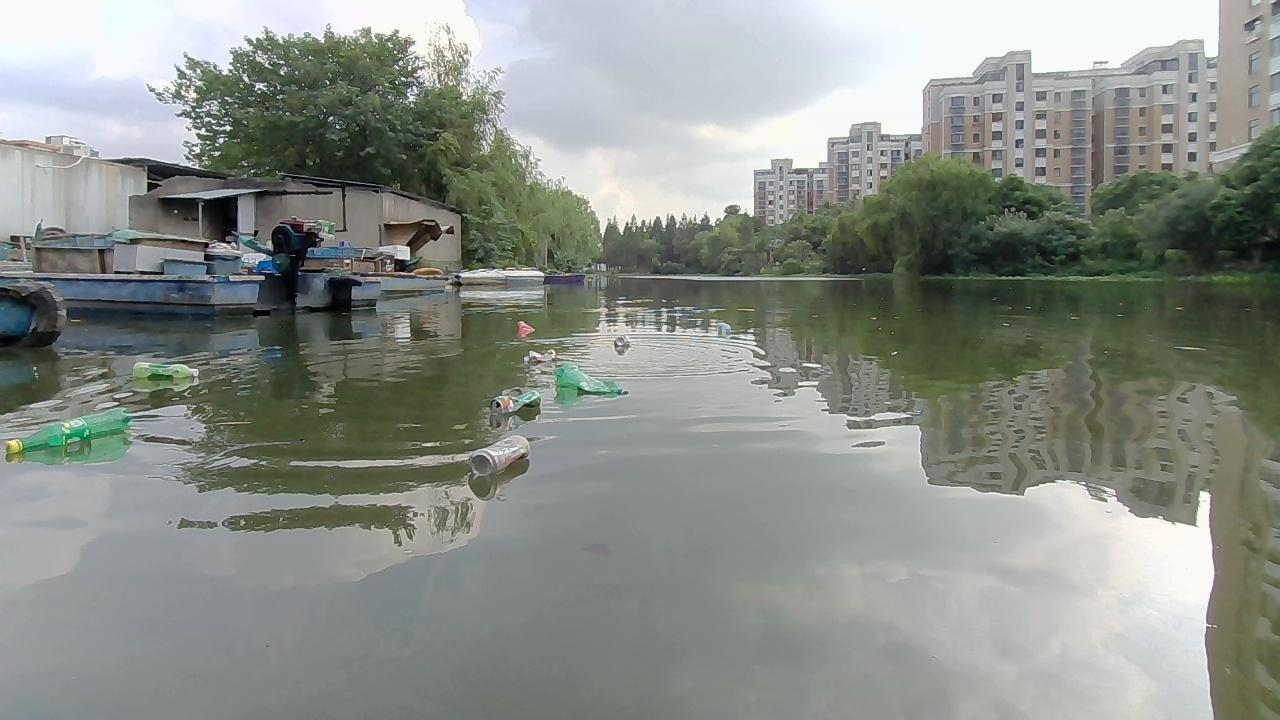bottle: (7, 403, 126, 461), (557, 366, 631, 403), (468, 437, 531, 475), (131, 358, 196, 387), (491, 390, 538, 418), (521, 344, 555, 364), (705, 316, 731, 341), (610, 334, 631, 352), (515, 316, 534, 335)
